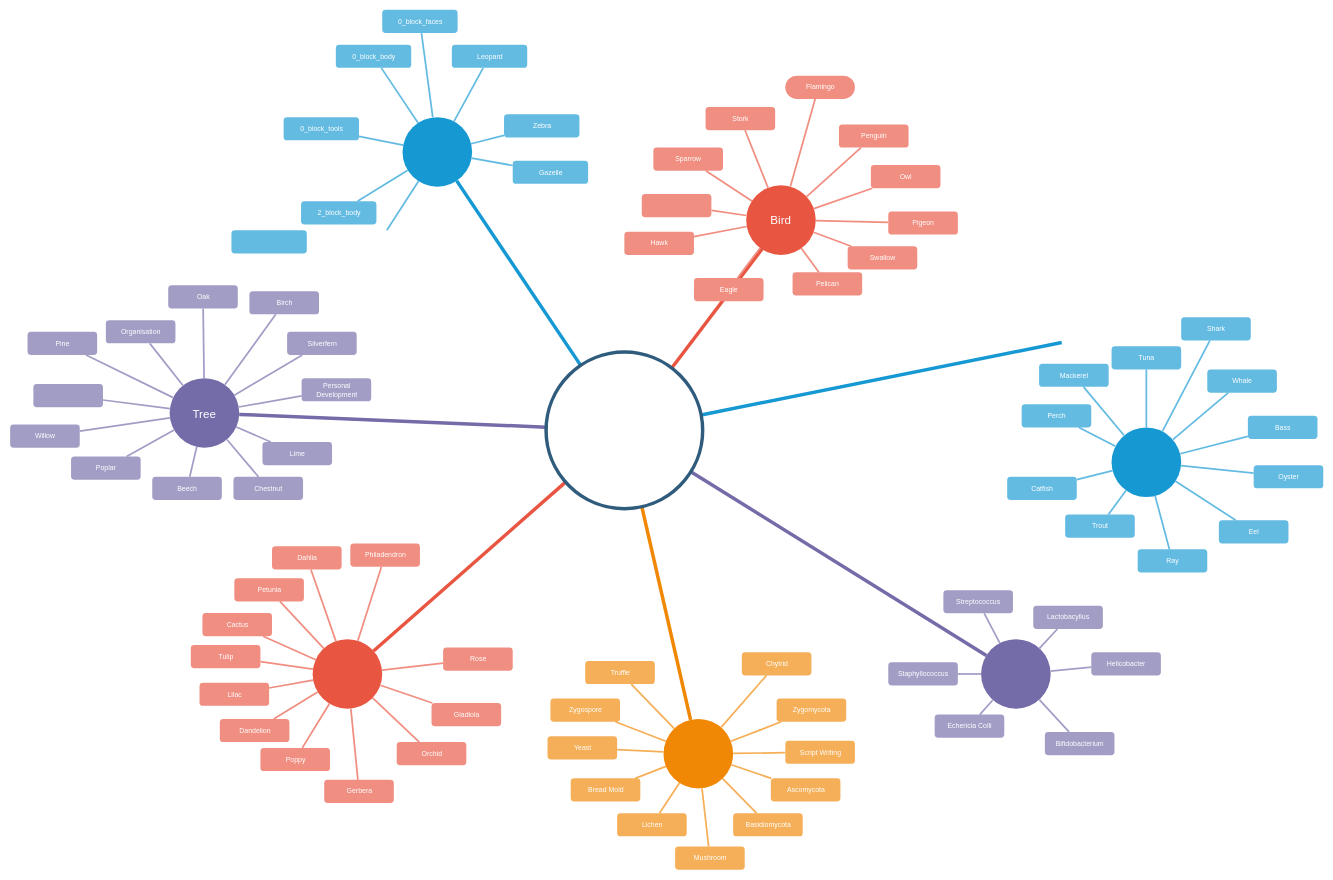
Image size: 1333x880. Some labels were removed from this diagram. Each missing label, with the centre of its shape:
"2_block_faces" belongs at (x=269, y=241).
"Acacia" belongs at (x=68, y=395).
"Bacteria" belongs at (x=1015, y=673).
"Falcon" belongs at (x=676, y=205).
"Fish" belongs at (x=1146, y=462).
"Flower" belongs at (x=347, y=673).
"Fungi" belongs at (x=698, y=753).
"LIVING BEINGS" belongs at (x=624, y=430).
"working memory" belongs at (x=437, y=151).
